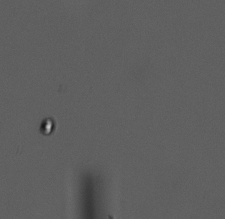Living Cell: (38, 116, 56, 136)
